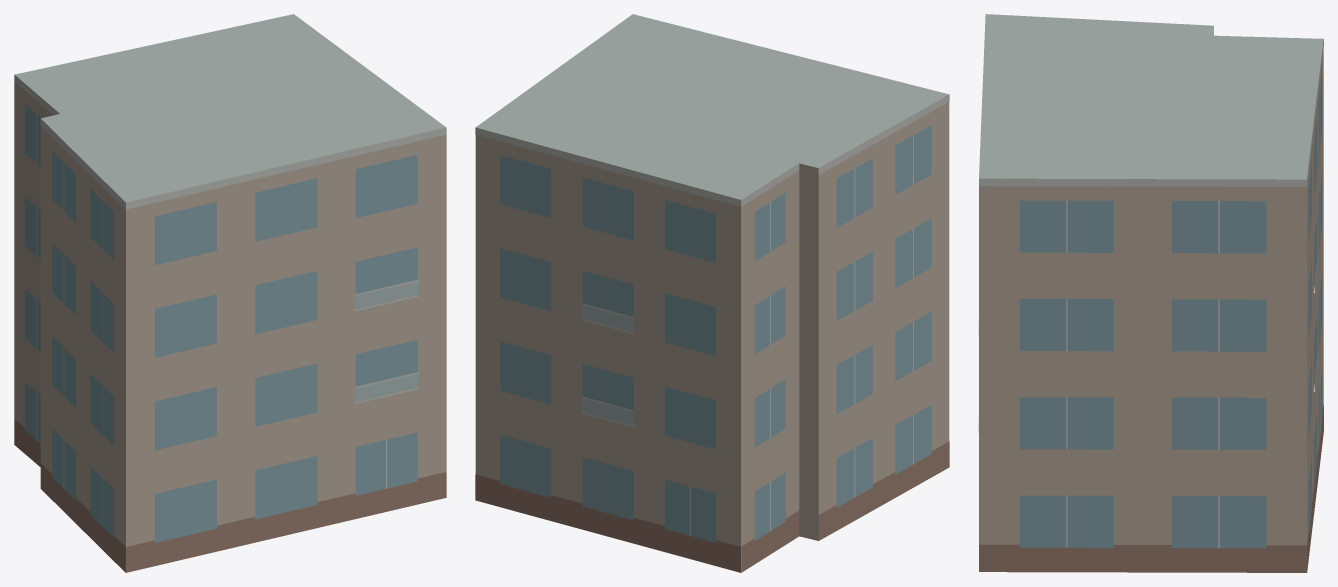
Rendered from survey-upis-32645647.glb.
3 views of the same model, side by side, from view 1: azimuth 30°, elevation 25°; view 2: azimuth 150°, elevation 25°; view 3: azimuth 270°, elevation 25° (orthographic). The views are drawn at different scales.
Visible parts, largest first — view 1: survey-upis-32645647.tmp; view 2: survey-upis-32645647.tmp; view 3: survey-upis-32645647.tmp.
Part boxes in pixels (<box>): survey-upis-32645647.tmp: <box>14,14,446,572</box>; survey-upis-32645647.tmp: <box>475,14,949,572</box>; survey-upis-32645647.tmp: <box>978,14,1323,572</box>.
Size of the model in its own units: 11.56 by 12.8 by 10.2.
